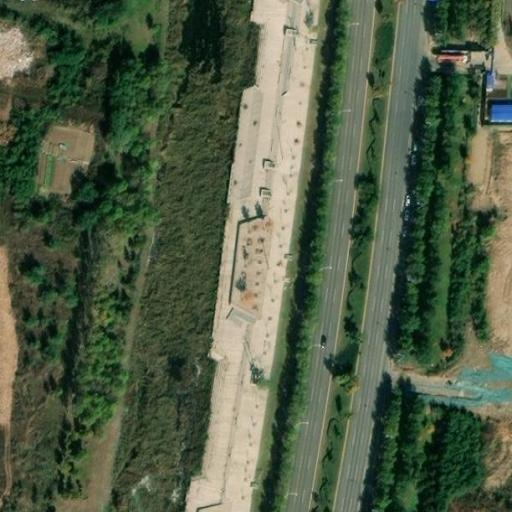building: (435, 46, 467, 63), (465, 46, 486, 64), (491, 103, 512, 120), (481, 69, 496, 90)
